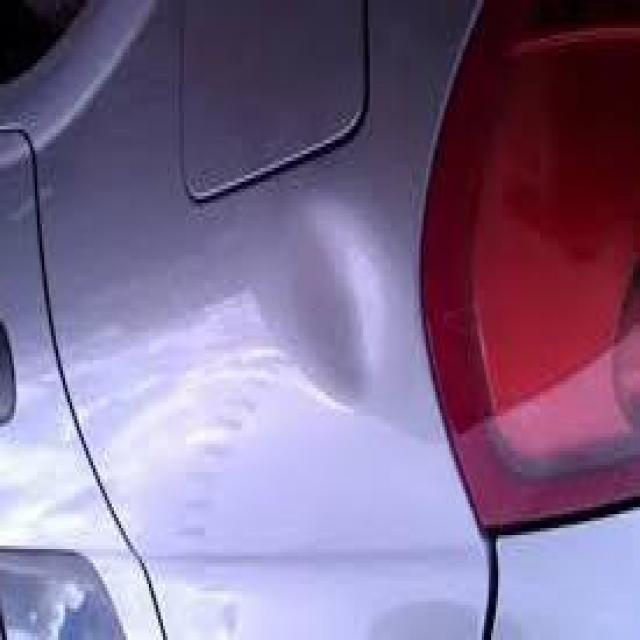dent: (243, 191, 381, 425)
